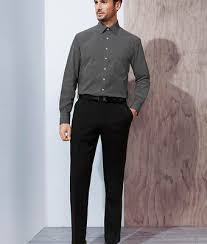F_belt: (73, 89, 134, 110)
F_dress pants: (64, 102, 139, 244)
